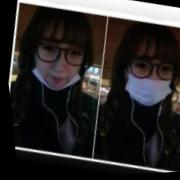WRONG: (113, 42, 180, 114), (27, 27, 88, 96)
